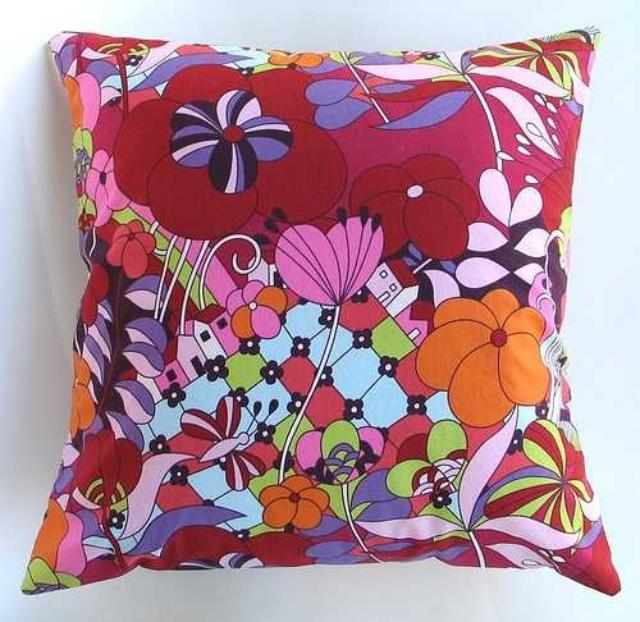pillow: (21, 24, 621, 598)
